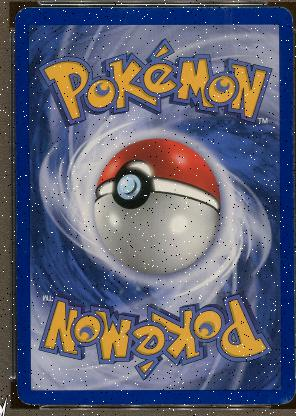Card: (11, 6, 293, 406)
Corner Wear: (269, 390, 293, 406), (18, 394, 42, 406), (12, 6, 26, 20)
Edge Wear: (290, 96, 292, 202), (184, 6, 261, 8), (115, 402, 183, 404), (248, 402, 256, 404)
Scratch: (150, 298, 159, 310), (131, 302, 139, 310), (117, 286, 123, 296), (135, 284, 142, 292)
